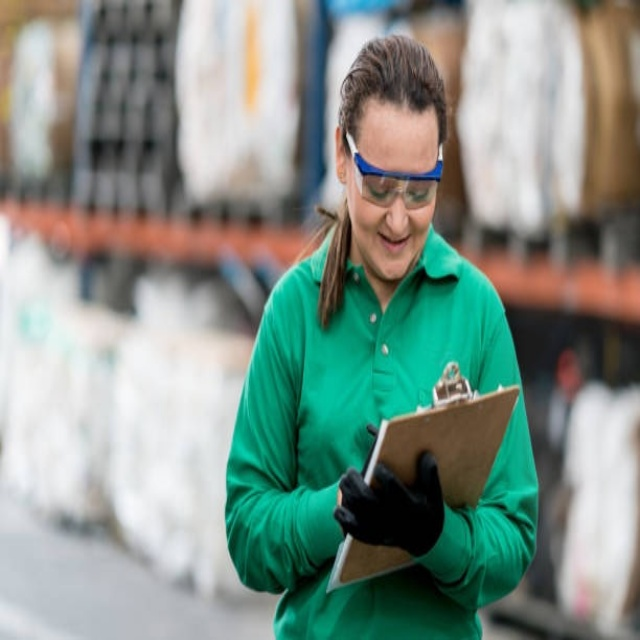Gafas: (346, 132, 444, 210)
Guantes: (334, 434, 445, 558)
Sin_mascara: (373, 226, 415, 276)
